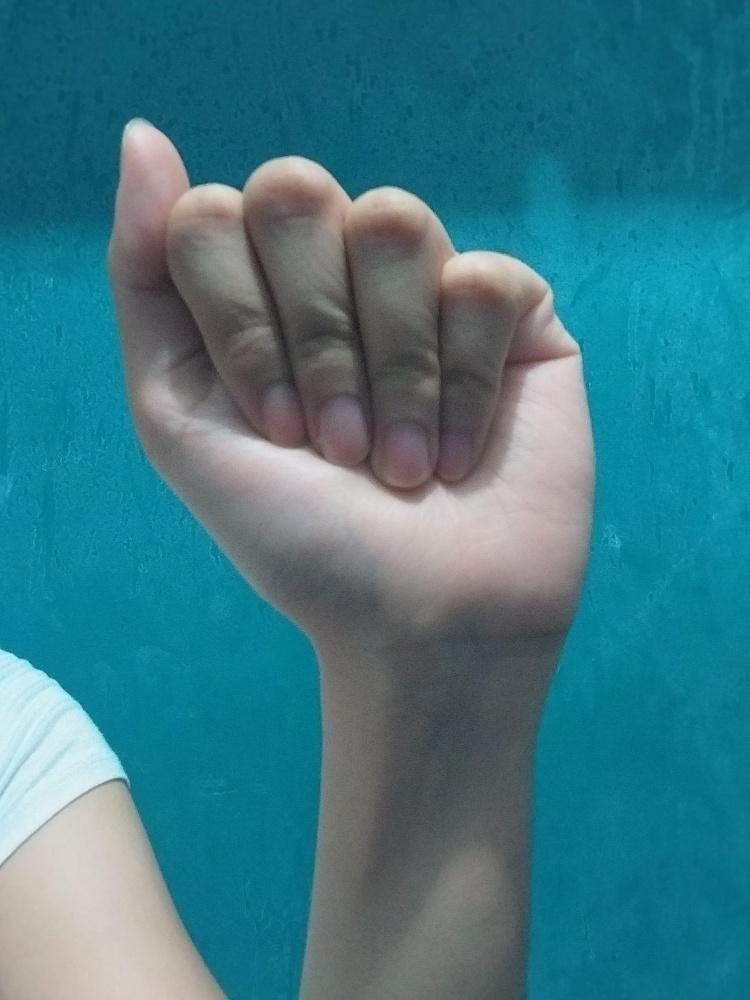a: (109, 111, 600, 646)
